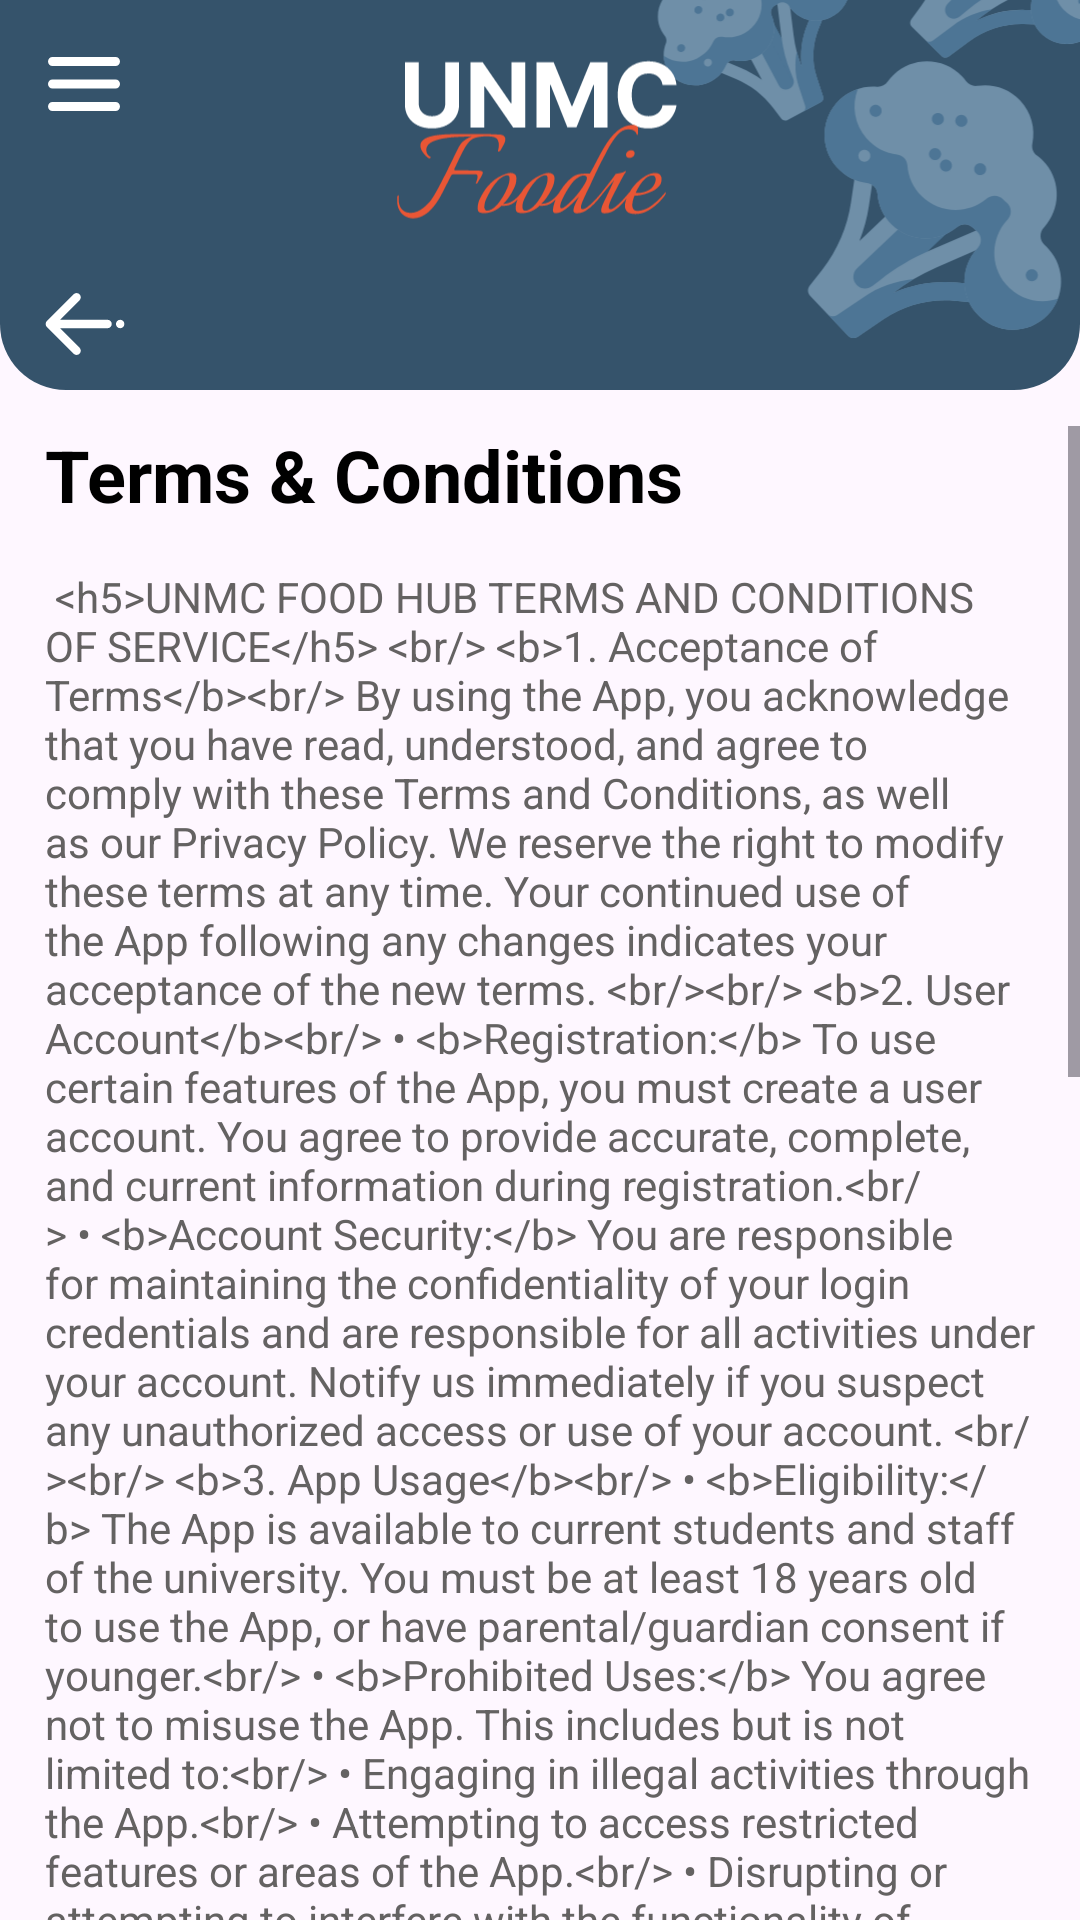

Screen size 1080x1920. Icon name, then its center in pixels as [x,y]:
arrow: [85,324]
Menu: [84,84]
